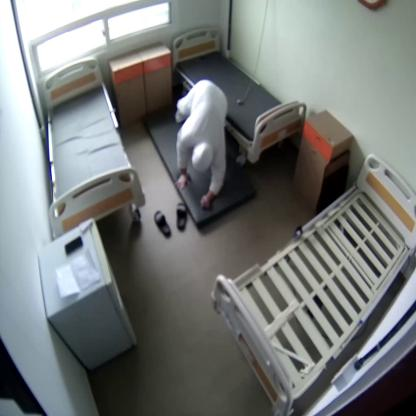Bed: (174, 27, 305, 161)
Person: (173, 80, 229, 211)
